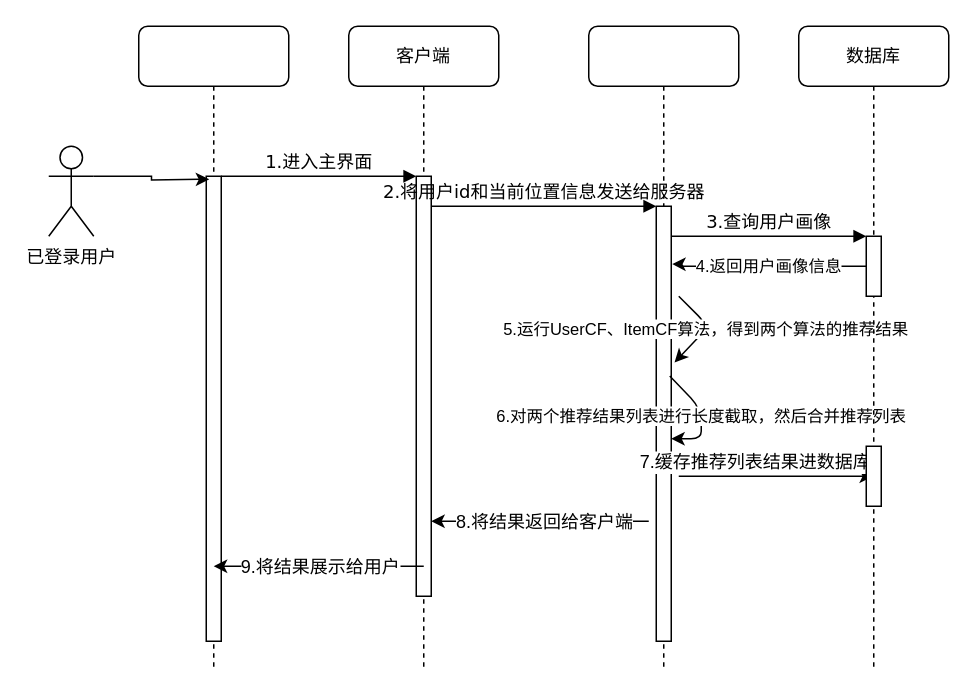
This 975x698 diagram has some shape labels left out. Here are the shapes that lost their labels. From the top down, the box of each, then its label:
(137, 25, 289, 671): 用户
(587, 25, 739, 671): 服务器
